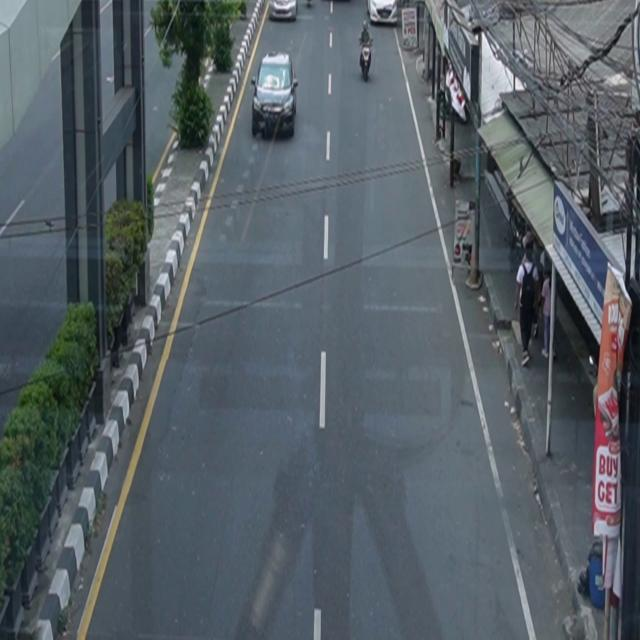car: (252, 52, 300, 141), (367, 1, 398, 26), (268, 1, 298, 22)
